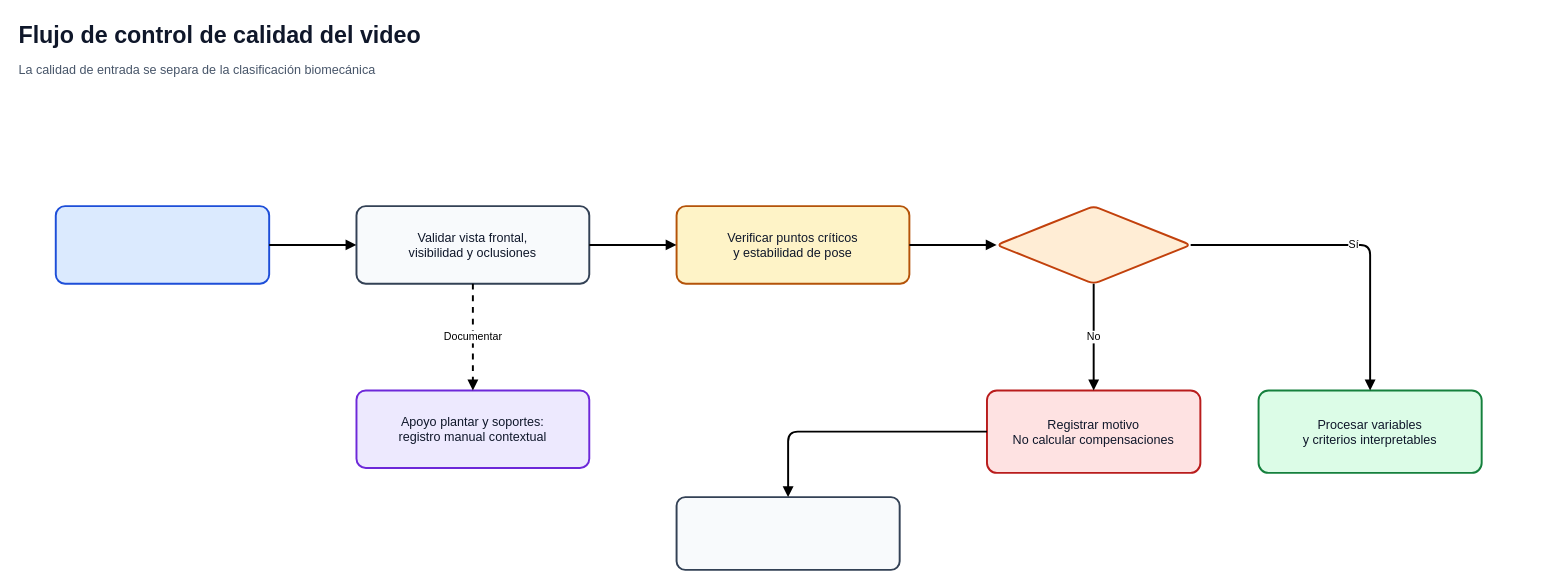
This 1556x587 diagram has some shape labels left out. Each missing label, with the centre of its shape:
"Solicitar nueva captura si corresponde" belongs at [787,533].
"Video y metadatos del Instrumento 1" belongs at [162,244].
"¿Evidencia suficiente?" belongs at [1093,244].
